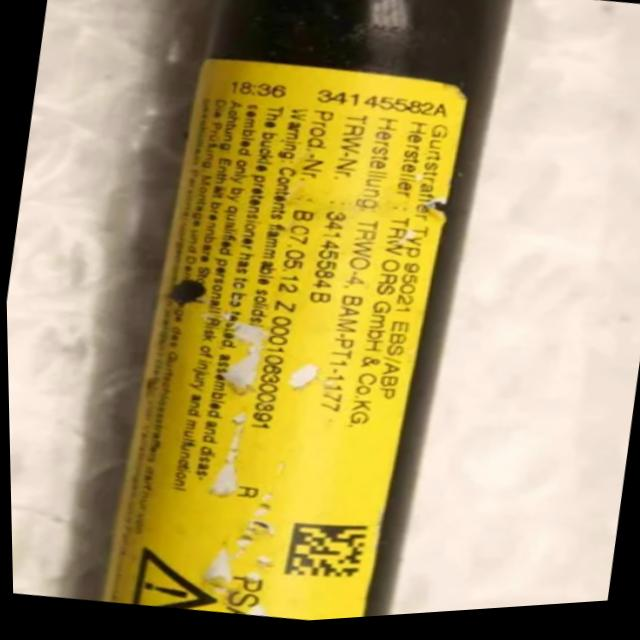datamatrix: (279, 520, 367, 591)
